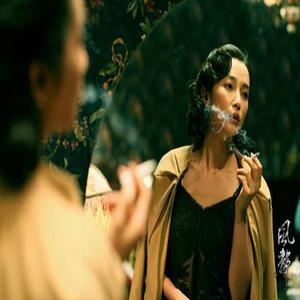cigarette: (251, 151, 262, 161)
